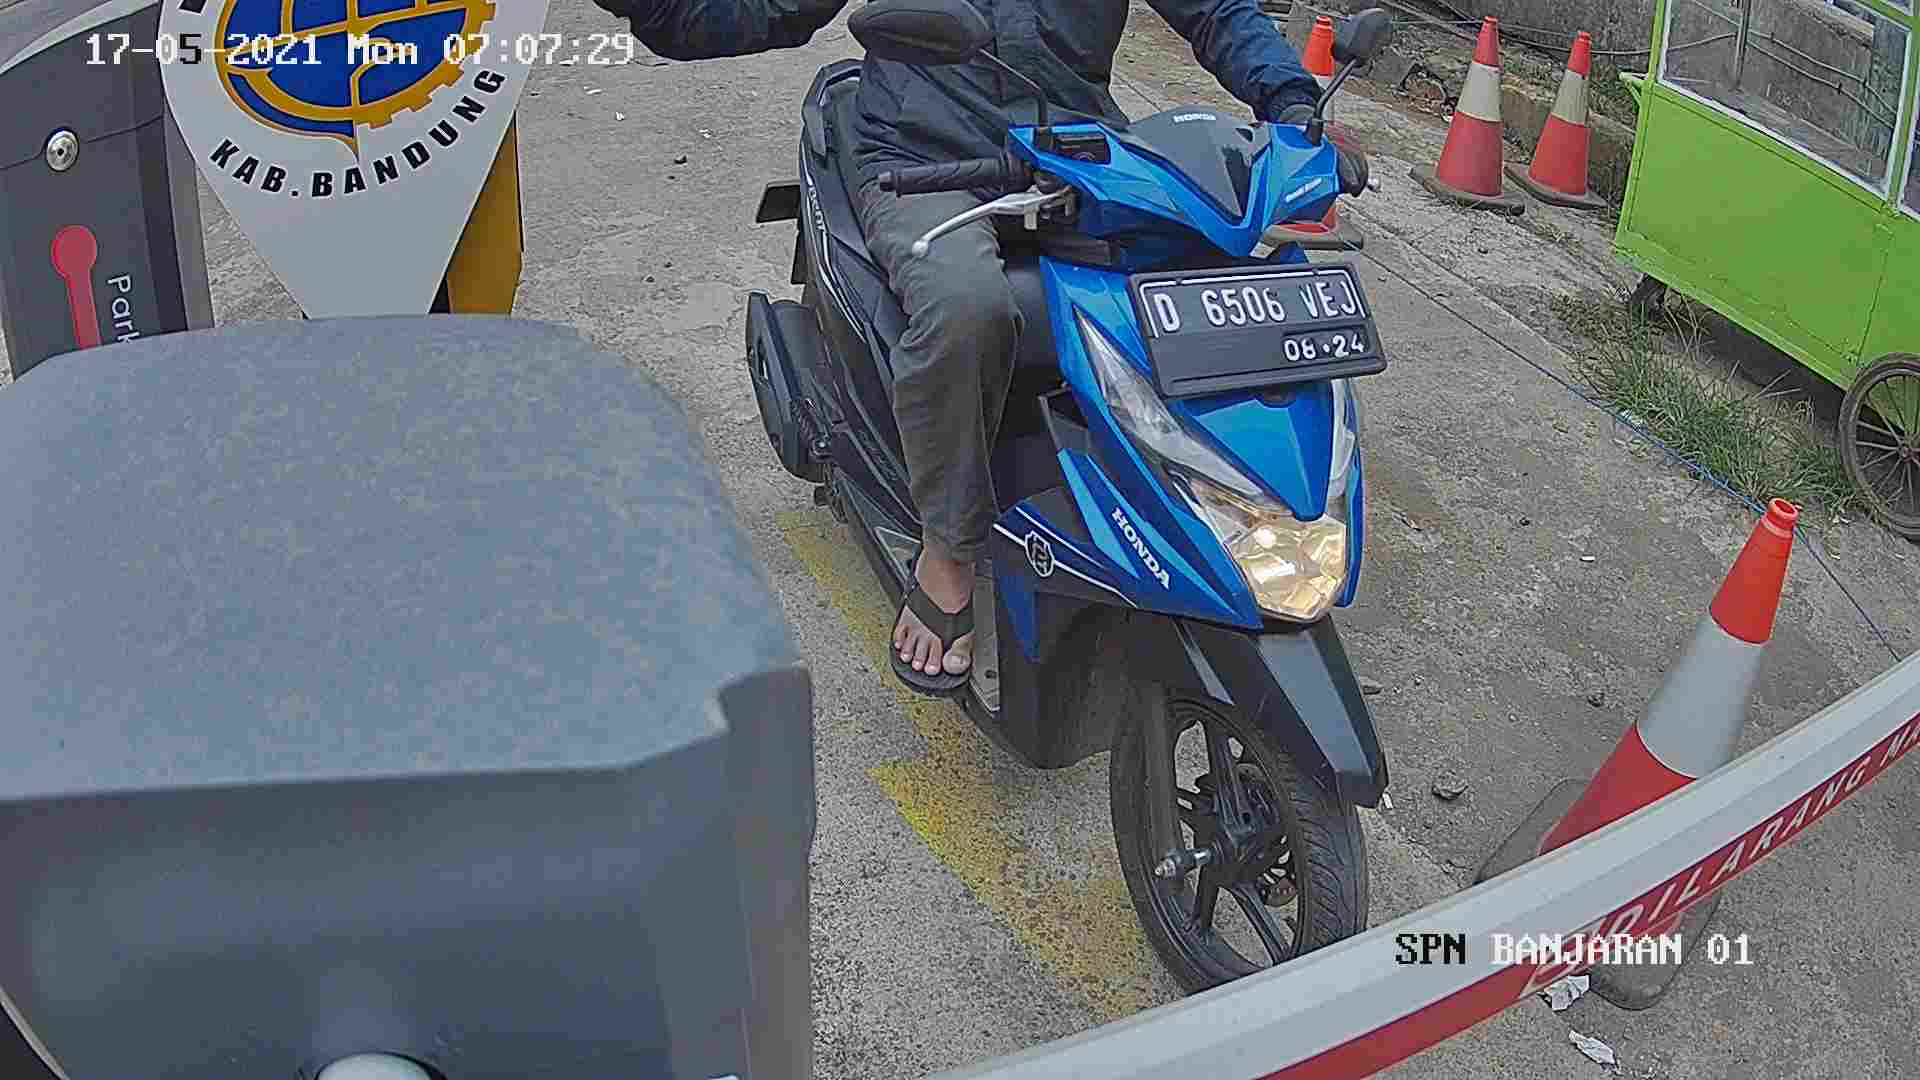motor: (735, 67, 1469, 965)
